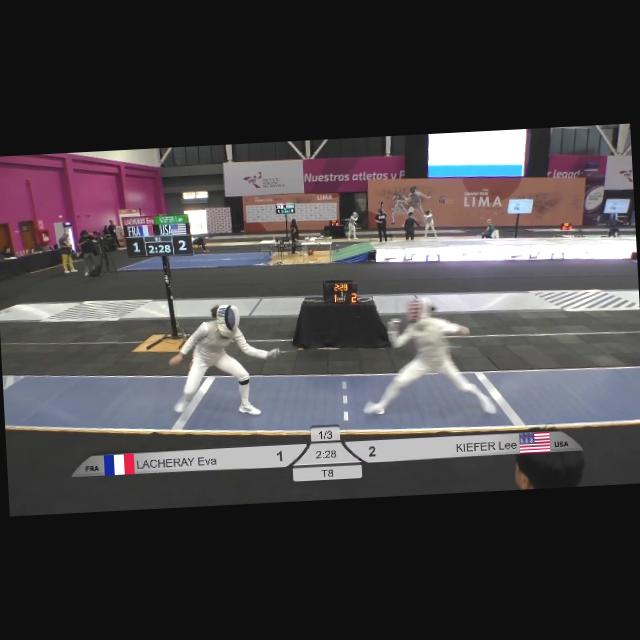blade: (269, 339, 384, 362)
